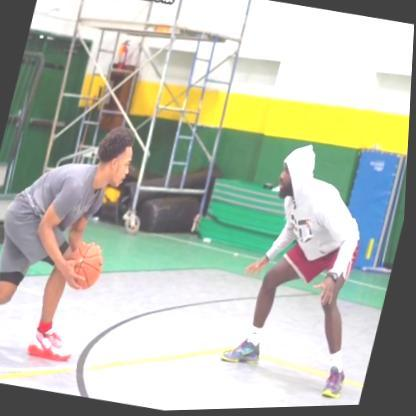basketball: (72, 240, 110, 292)
